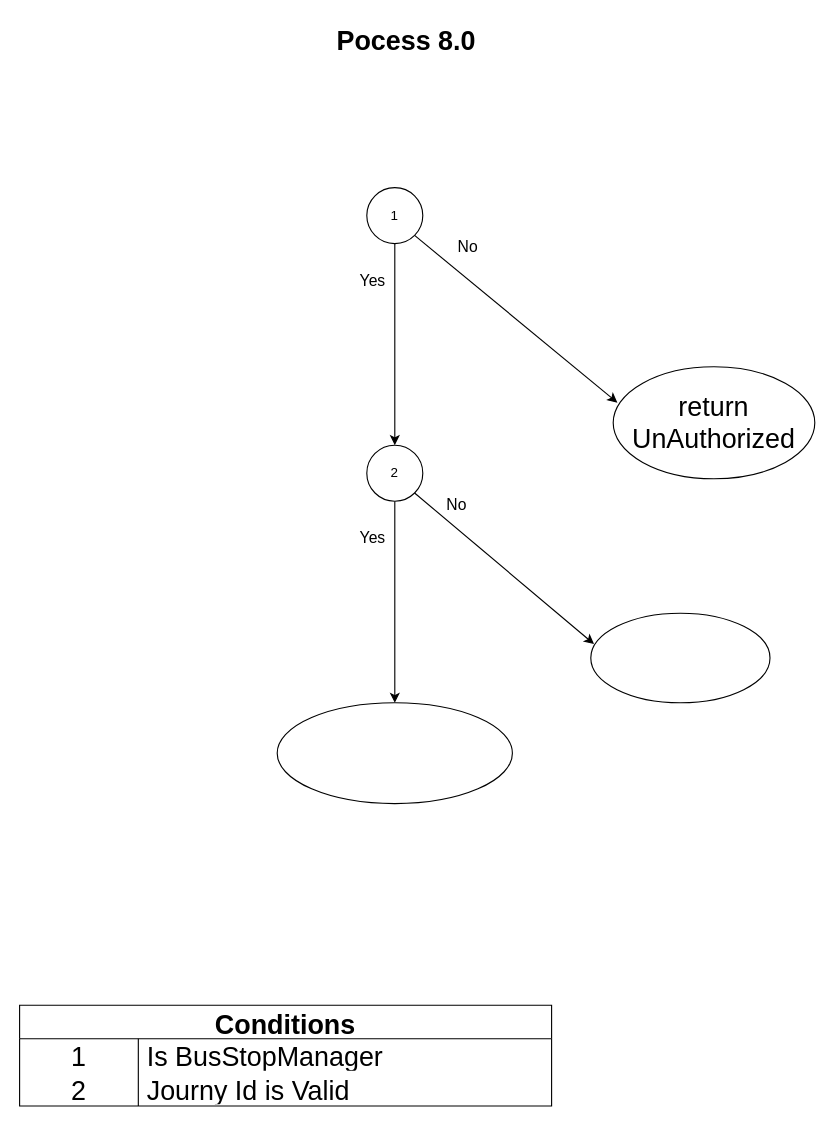
Some shapes in this 834 by 1126 pixel diagram are drawn without their labels. The shapes that lost their labels are listed below. From the top down, each one's centre as x and y in pixels, then its label:
the point at 680,657: return BadRequest
the point at 394,753: Update In Database
